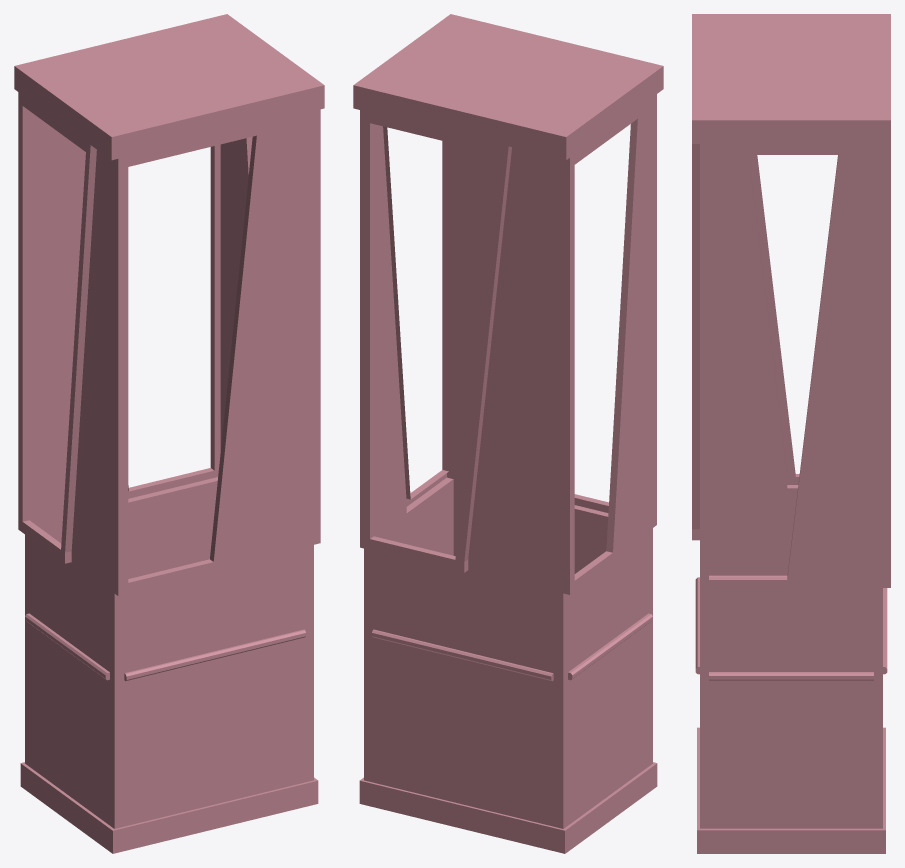
File: ColumnaSalonPrincipal.fbx
The picture shows the model from 3 angles, left to right: view 1: azimuth 30°, elevation 25°; view 2: azimuth 150°, elevation 25°; view 3: azimuth 270°, elevation 25°; orthographic projection. The views are drawn at different scales.
Visible parts, largest first — view 1: Columna; view 2: Columna; view 3: Columna.
Boxes of the visible parts, box(x1,y1,x2,y2) form: Columna: box(14, 14, 324, 853); Columna: box(353, 14, 663, 853); Columna: box(692, 14, 890, 853).
Bounding box in the file's own units: 96 × 310 × 76.
